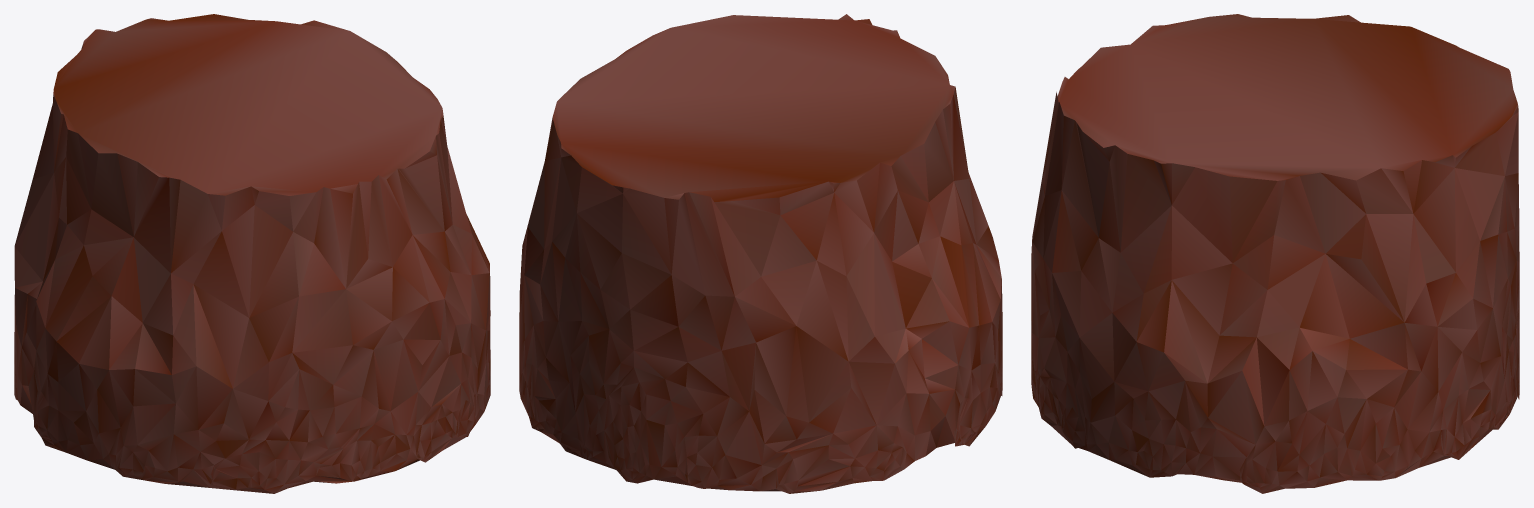
File: bloodwood_stump.glb
3 renders of one model, left to right at view 1: azimuth 30°, elevation 25°; view 2: azimuth 150°, elevation 25°; view 3: azimuth 270°, elevation 25°, orthographic. The views are drawn at different scales.
Visible parts, largest first — view 1: Stump; view 2: Stump; view 3: Stump.
Part boxes in pixels (x1=…): Stump: x1=14, y1=14, x2=490, y2=493; Stump: x1=519, y1=14, x2=1002, y2=493; Stump: x1=1031, y1=14, x2=1519, y2=493.
Size of the model in its own units: 1.2 by 0.8211 by 1.2.
